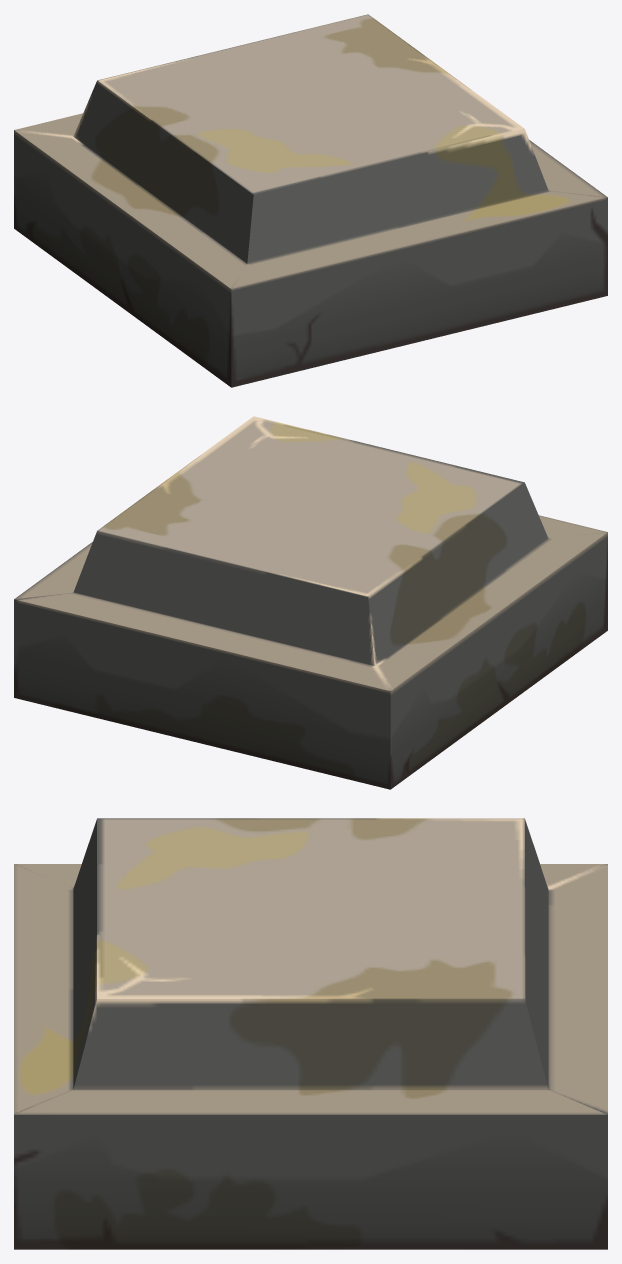
File: Pillar_04_003.fbx
3 renders of one model, top to bottom at view 1: azimuth 30°, elevation 25°; view 2: azimuth 150°, elevation 25°; view 3: azimuth 270°, elevation 25°, orthographic. The views are drawn at different scales.
Visible parts, largest first — view 1: Base_Pillar; view 2: Base_Pillar; view 3: Base_Pillar.
Part boxes in pixels (x1=…): Base_Pillar: x1=14, y1=14, x2=607, y2=387; Base_Pillar: x1=14, y1=416, x2=607, y2=789; Base_Pillar: x1=14, y1=818, x2=607, y2=1249.
Size of the model in its own units: 2 by 0.8 by 2.
Materials: 1 (1 with a texture image).
